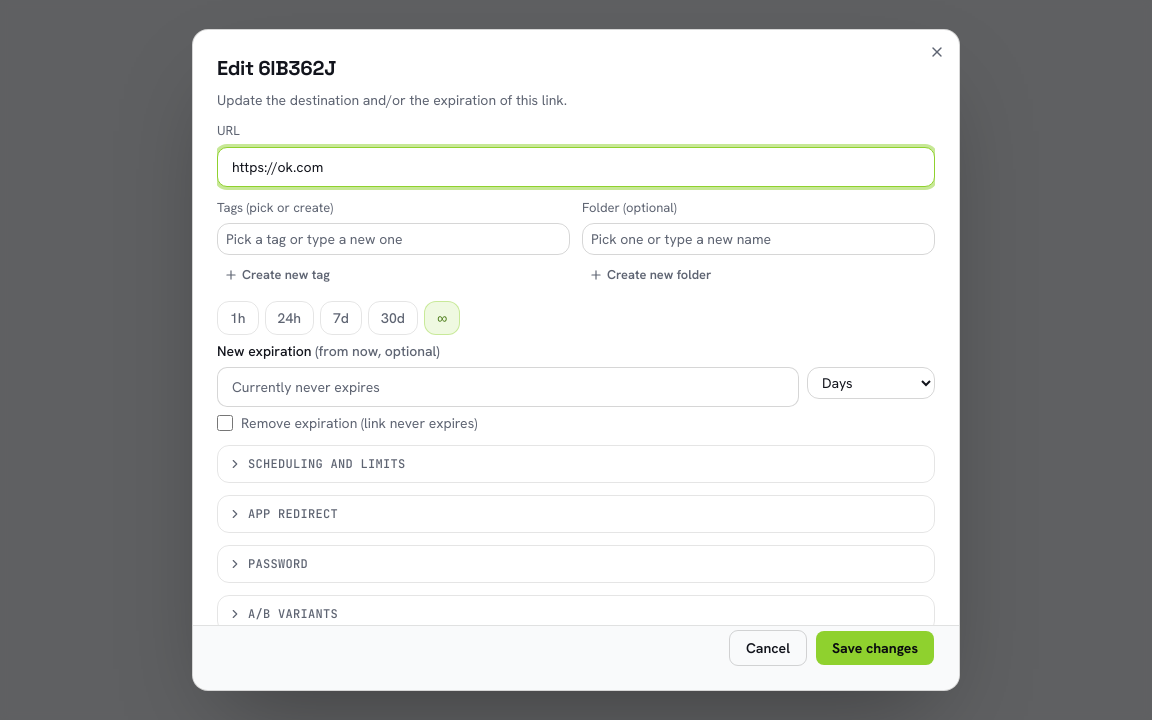
EditLinkDialog — TTL chips › disables the TTL chips while remove-expiration is checked, same as the custom field
Click the checkbox labelled "Remove expiration (link never expires)": (225, 423) [217,415,233,431]
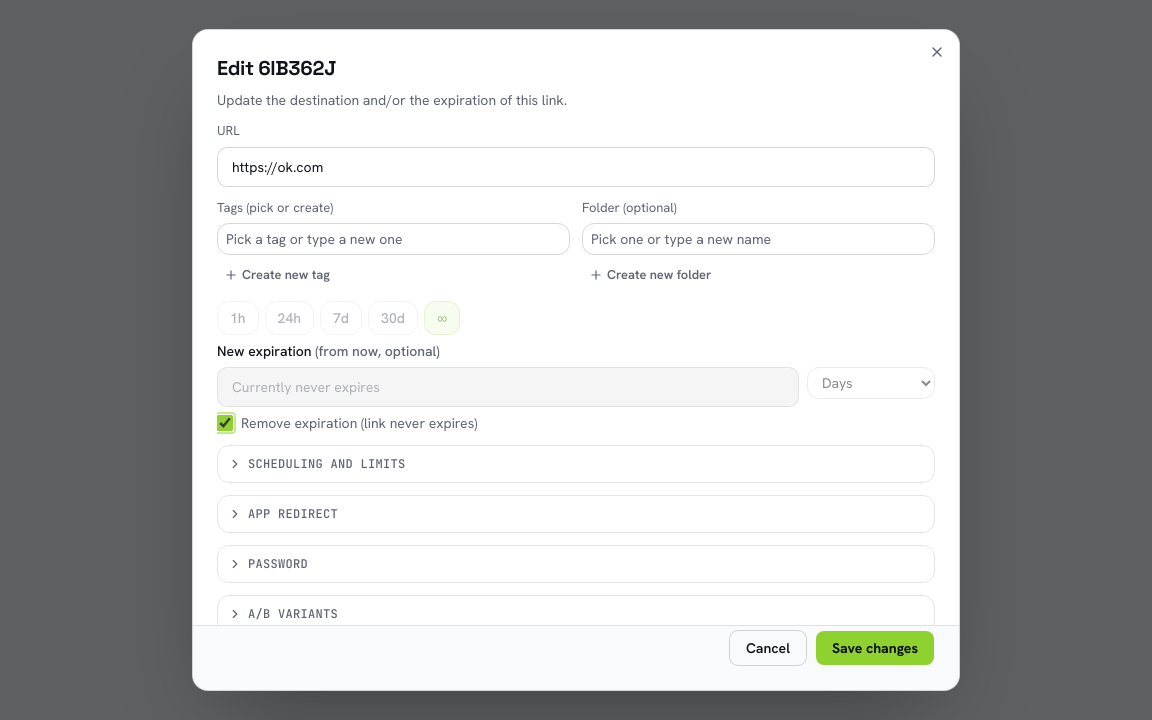
Now the button "7d" is disabled, box [320,301,362,335]
Now the number field labelled "New expiration (from now, optional)" is disabled, box [217,367,799,407]
